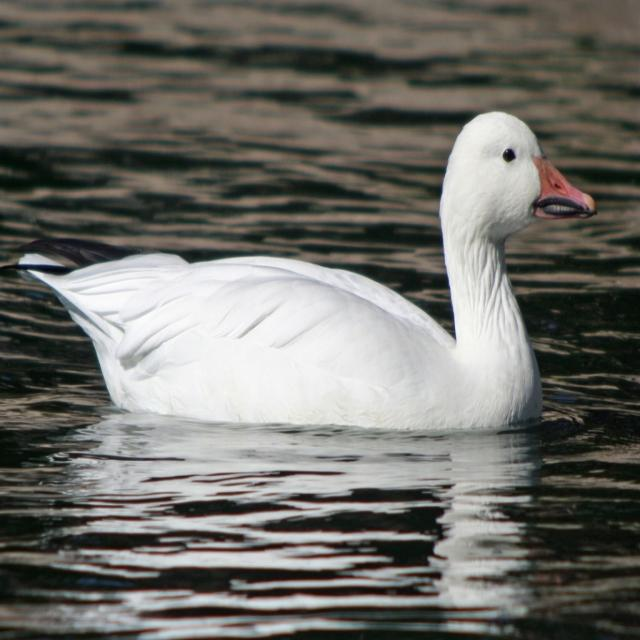bird: (14, 107, 593, 434)
